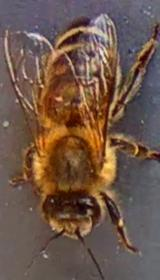varroa_mite: (44, 92, 65, 114)
